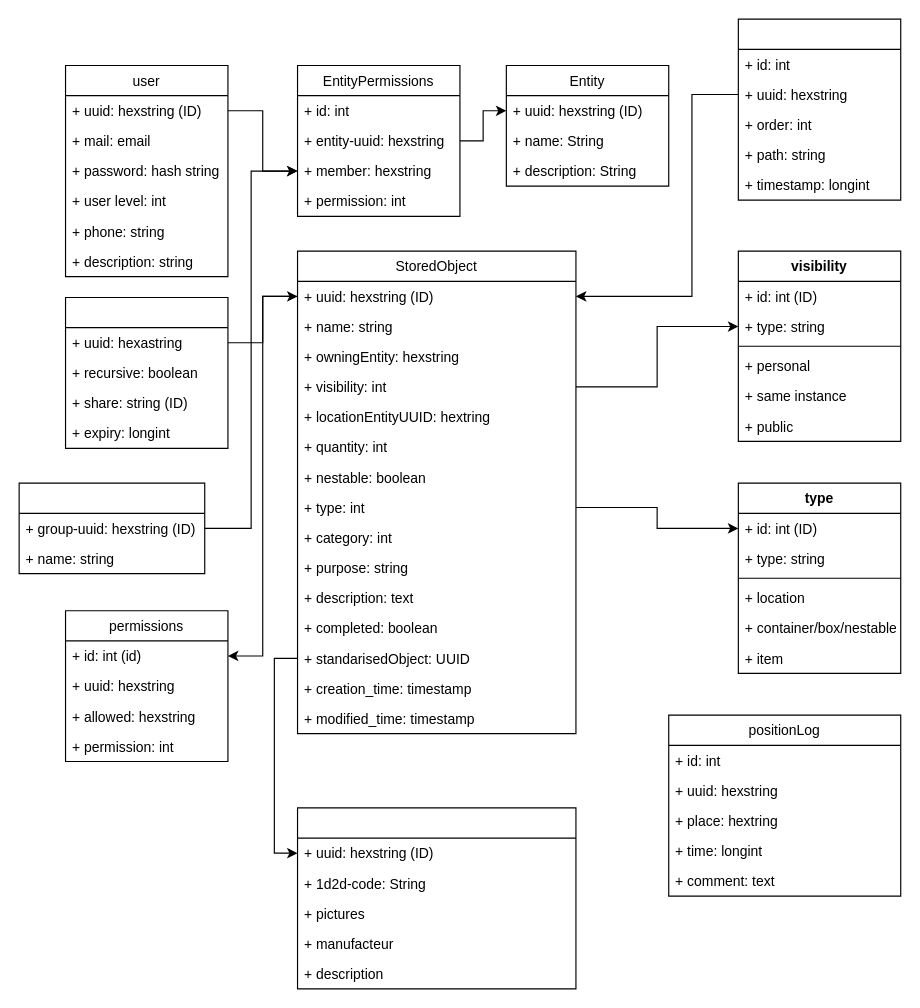
This 920x1008 diagram has some shape labels left out. The shapes that lost their labels are listed below. From the top down, each one's box as (x1, y1, x2, y2) in pixels, then its label:
(737, 18, 901, 200): images
(64, 296, 228, 448): LinkShares
(18, 482, 205, 574): permissionGroups
(296, 807, 576, 989): standardisedObject
